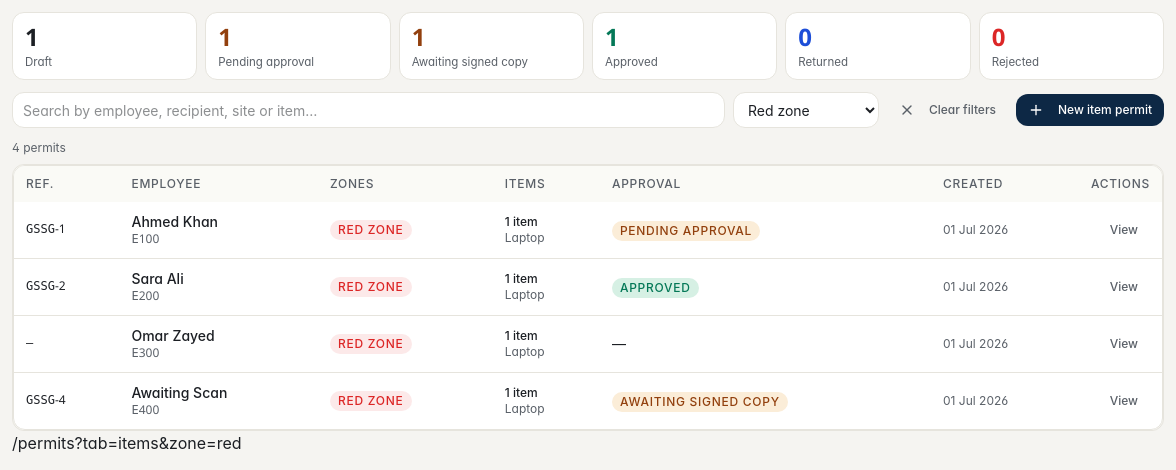
it: ItemPermitsTab › passes URL zone red to the server and preserves it when selecting approval
The width and height of the screenshot is (1176, 470).
Expected: the text "Ahmed Khan" is shown, [132,213,218,230]
Expected: the dropdown named "Zone" shows "Red zone", [733,92,879,128]
Click the button "1 Pending approval". click: {"x": 298, "y": 46}
box: [205,12,391,80]
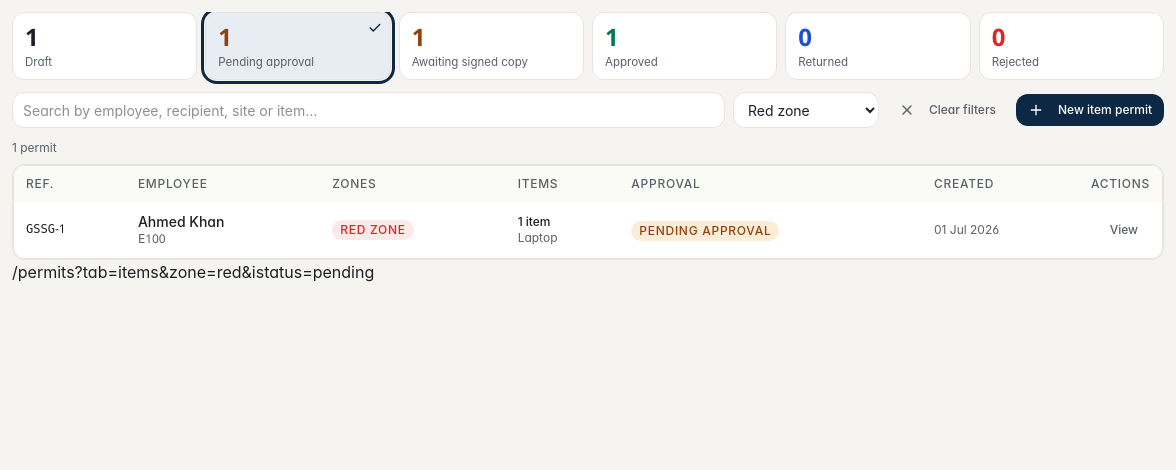
Expected: the text with test id "location" shows "zone=red", [12,262,374,282]
Expected: the text with test id "location" shows "istatus=pending", [12,262,374,282]
Click the button "Clear filters". click: {"x": 947, "y": 110}
box: [887,94,1008,126]
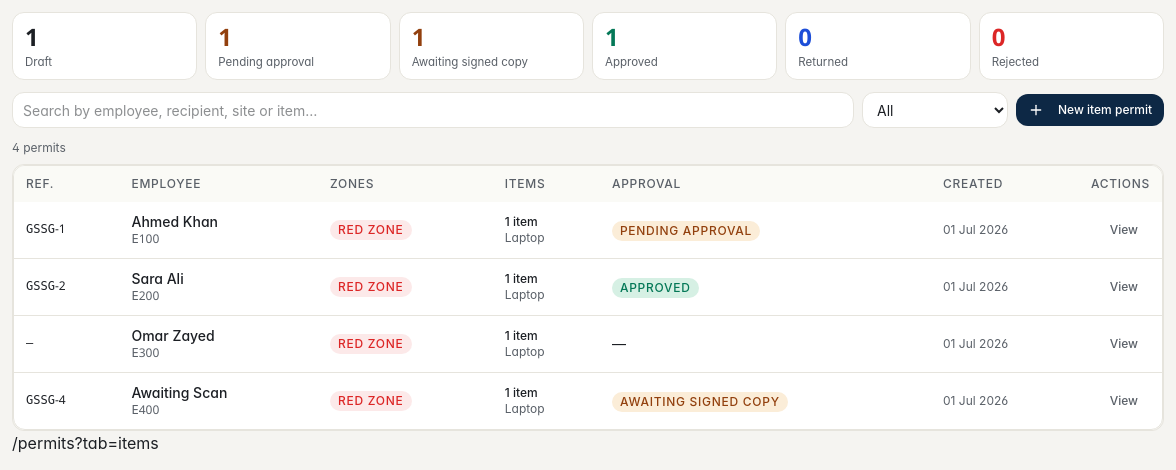
Expected: the text with test id "location" reads "/permits?tab=items", [12,433,159,453]
